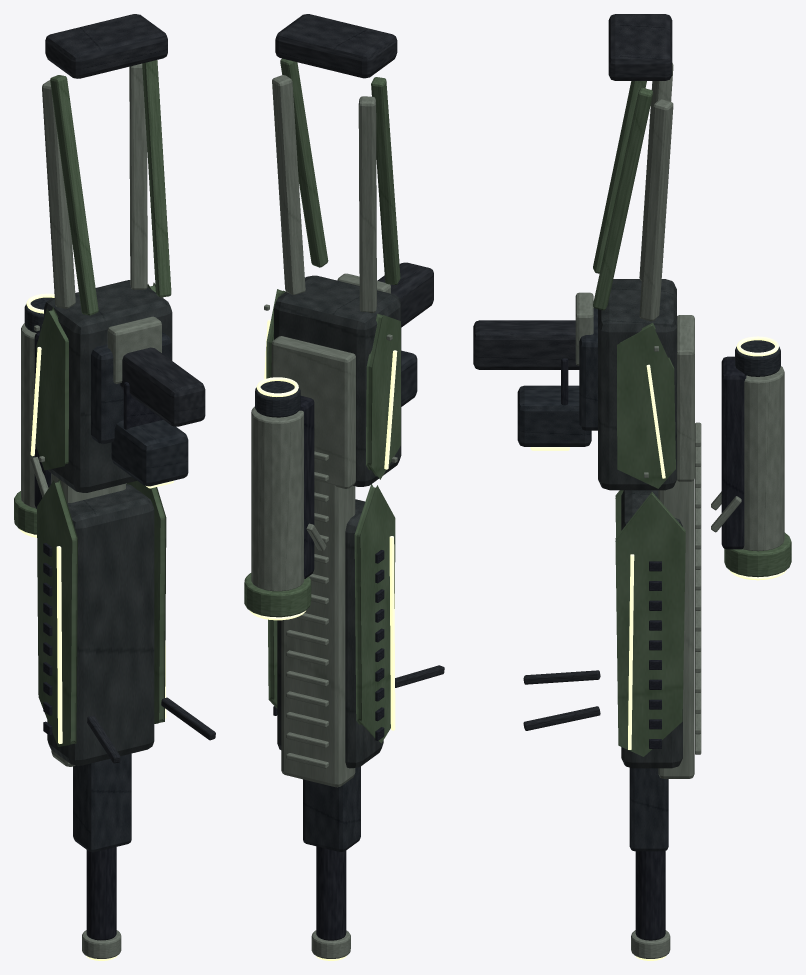
File: aether-l7-eclipse.glb
The picture shows the model from 3 angles, left to right: view 1: azimuth 30°, elevation 25°; view 2: azimuth 150°, elevation 25°; view 3: azimuth 270°, elevation 25°; orthographic projection.
Parts seen in each view (by area): view 1: L7 / long matte handguard, 01 / central monocoque, L7 / split shell side -1, L7 / fixed stock cushion, L7 / tip assembly, 06 / sculpted receiver cheek-1, 04 / pistol grip, L7 / hollow stock diagonal -1, L7 / lower energy capsule, L7 / hollow stock outer rail 1, L7 / hollow stock outer rail -1, L7 / hollow stock diagonal 1 (+15 smaller); view 2: L7 / elongated chassis spine, L7 / long illuminated optic, 01 / central monocoque, L7 / split shell side -1, 02 / receiver crown, L7 / fixed stock cushion, L7 / hollow stock outer rail 1, 06 / sculpted receiver cheek-1, L7 / long matte handguard, L7 / hollow stock outer rail -1, L7 / tip assembly, L7 / hollow stock diagonal -1 (+12 smaller); view 3: L7 / split shell side 1, 06 / sculpted receiver cheek1, 01 / central monocoque, L7 / long illuminated optic, 04 / pistol grip, L7 / hollow stock outer rail 1, L7 / elongated chassis spine, L7 / fixed stock cushion, L7 / precision optics backbone, L7 / lower energy capsule, L7 / hollow stock diagonal 1, L7 / tip assembly (+13 smaller).
Boxes of the visible parts, x1,y1,x2,y2 form: L7 / long matte handguard: [47, 484, 154, 765]; 01 / central monocoque: [44, 280, 172, 492]; L7 / split shell side -1: [37, 479, 77, 746]; L7 / fixed stock cushion: [45, 14, 167, 78]; L7 / tip assembly: [73, 753, 131, 852]; 06 / sculpted receiver cheek-1: [35, 307, 68, 470]; 04 / pistol grip: [120, 347, 205, 426]; L7 / hollow stock diagonal -1: [50, 75, 98, 315]; L7 / lower energy capsule: [111, 420, 188, 486]; L7 / hollow stock outer rail 1: [129, 63, 147, 289]; L7 / hollow stock outer rail -1: [42, 80, 75, 308]; L7 / hollow stock diagonal 1: [142, 60, 171, 297]; L7 / elongated chassis spine: [281, 480, 355, 787]; L7 / long illuminated optic: [251, 406, 304, 591]; 01 / central monocoque: [274, 275, 401, 486]; L7 / split shell side -1: [354, 484, 395, 743]; 02 / receiver crown: [271, 336, 355, 488]; L7 / fixed stock cushion: [275, 14, 397, 78]; L7 / hollow stock outer rail 1: [272, 75, 305, 294]; 06 / sculpted receiver cheek-1: [366, 313, 400, 479]; L7 / long matte handguard: [277, 499, 383, 768]; L7 / hollow stock outer rail -1: [358, 96, 376, 313]; L7 / tip assembly: [303, 766, 360, 851]; L7 / hollow stock diagonal -1: [371, 77, 400, 284]; L7 / split shell side 1: [615, 492, 685, 756]; 06 / sculpted receiver cheek1: [617, 322, 675, 488]; 01 / central monocoque: [598, 279, 676, 490]; L7 / long illuminated optic: [743, 366, 784, 551]; 04 / pistol grip: [473, 320, 579, 369]; L7 / hollow stock outer rail 1: [639, 99, 673, 321]; L7 / elongated chassis spine: [658, 479, 694, 778]; L7 / fixed stock cushion: [608, 14, 672, 80]; L7 / precision optics backbone: [721, 356, 746, 549]; L7 / lower energy capsule: [517, 385, 591, 446]; L7 / hollow stock diagonal 1: [593, 88, 652, 310]; L7 / tip assembly: [629, 768, 668, 851].
Size of the model in its own units: 0.5125 by 3.49 by 1.09.
7 materials, 7 textured.
